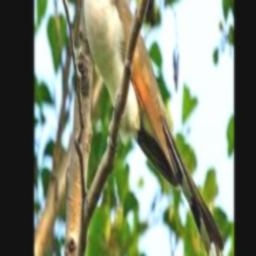Cuckoo: (74, 0, 225, 256)
